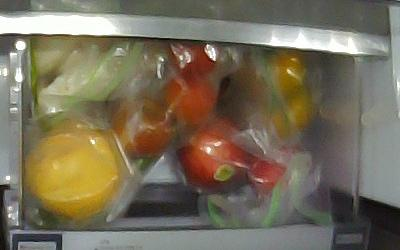apple_vinyl: (180, 119, 247, 188), (247, 156, 291, 197)
grapefruit_vinyl: (27, 123, 121, 217)
persimmon_vinyl: (235, 49, 306, 99), (252, 97, 311, 142)
prune_vinyl: (113, 98, 171, 158), (155, 71, 216, 122), (166, 42, 221, 77)
